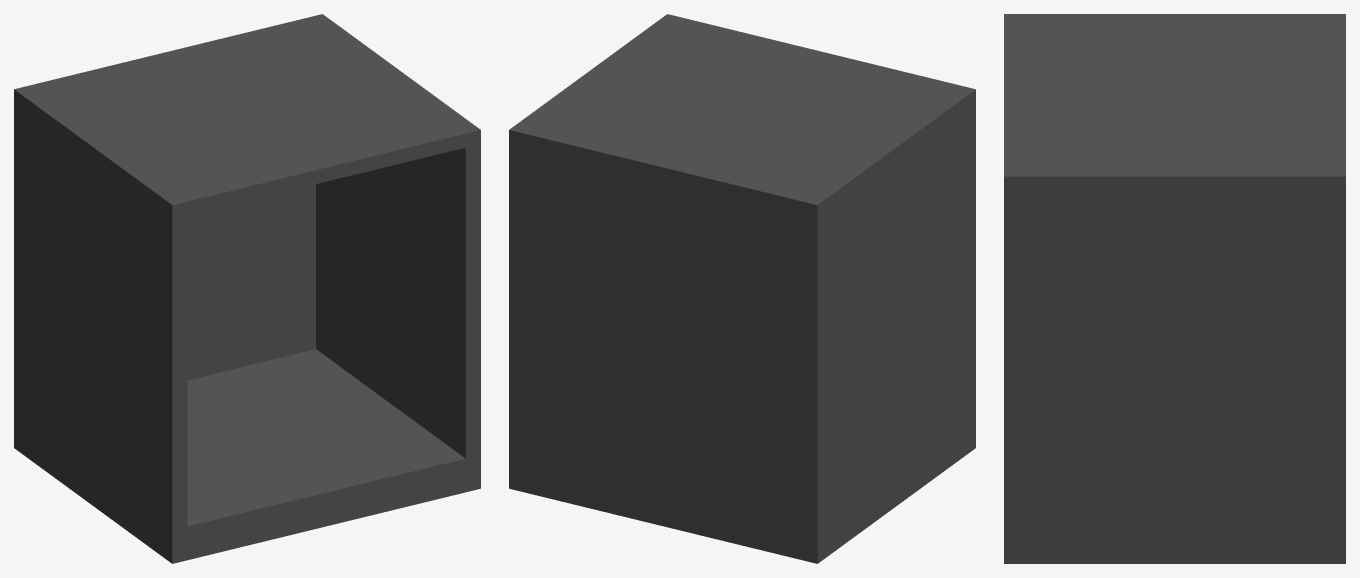
File: BedTable1_C2.fbx
3 views of the same model, side by side, from view 1: azimuth 30°, elevation 25°; view 2: azimuth 150°, elevation 25°; view 3: azimuth 270°, elevation 25° (orthographic). The views are drawn at different scales.
Parts seen in each view (by area): view 1: BedTable1_C2; view 2: BedTable1_C2; view 3: BedTable1_C2.
Boxes of the visible parts, box(x1,y1,x2,y2) form: BedTable1_C2: box(14, 14, 480, 563); BedTable1_C2: box(509, 14, 975, 563); BedTable1_C2: box(1004, 14, 1345, 563).
Bounding box in the file's own units: 45 × 50 × 40.
